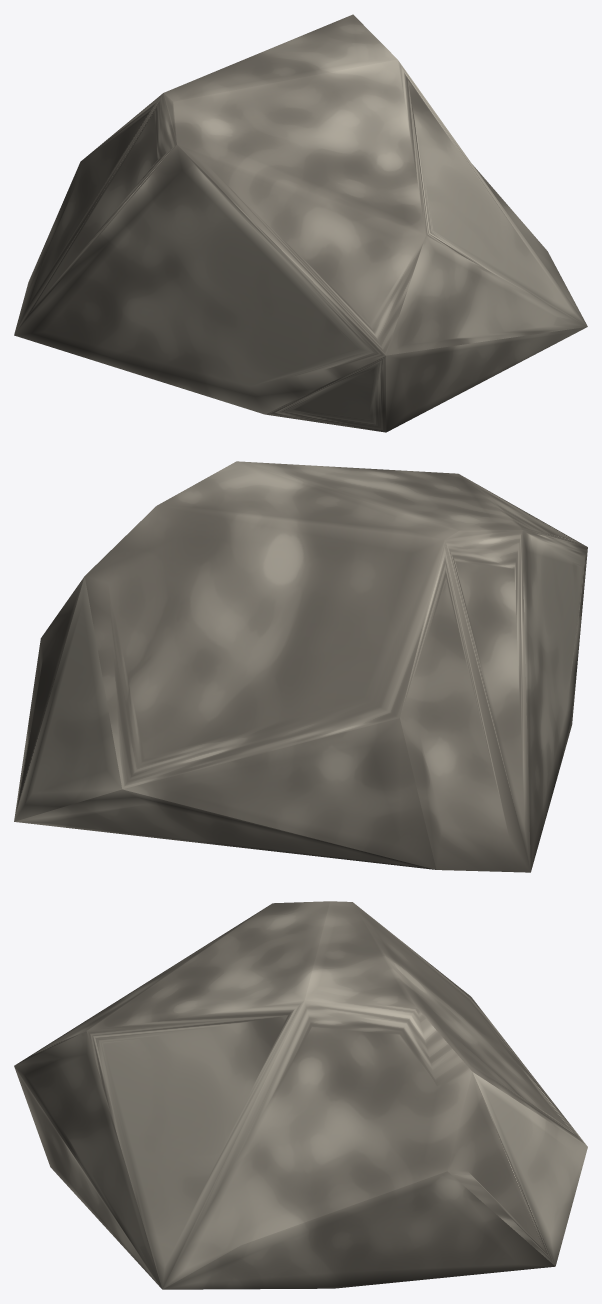
File: rock_lp1.gltf
The picture shows the model from 3 angles, top to bottom: view 1: azimuth 30°, elevation 25°; view 2: azimuth 150°, elevation 25°; view 3: azimuth 270°, elevation 25°; orthographic projection. The views are drawn at different scales.
Visible parts, largest first — view 1: rock_lp1_stone_LOD0; view 2: rock_lp1_stone_LOD0; view 3: rock_lp1_stone_LOD0.
Boxes of the visible parts, x1,y1,x2,y2 form: rock_lp1_stone_LOD0: (14,14,587,432); rock_lp1_stone_LOD0: (14,461,587,872); rock_lp1_stone_LOD0: (14,901,587,1289).
Size of what is drawn, in the model's own units: 0.44 by 0.2314 by 0.5143.
1 material, 1 textured.
